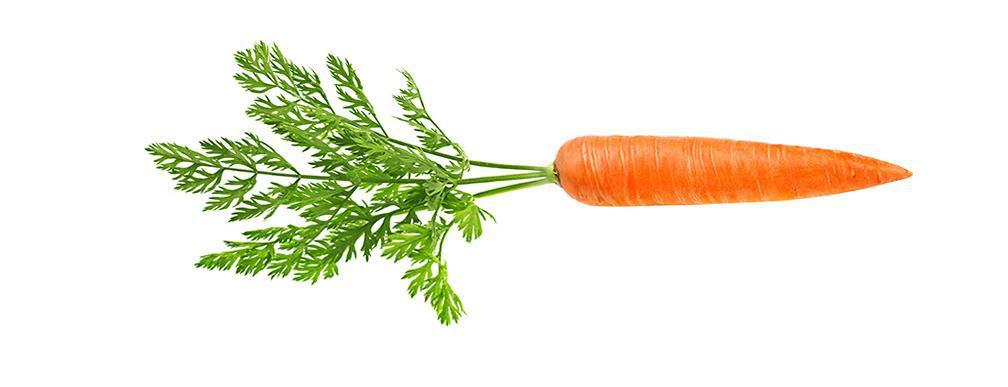carrot: (162, 61, 922, 304)
